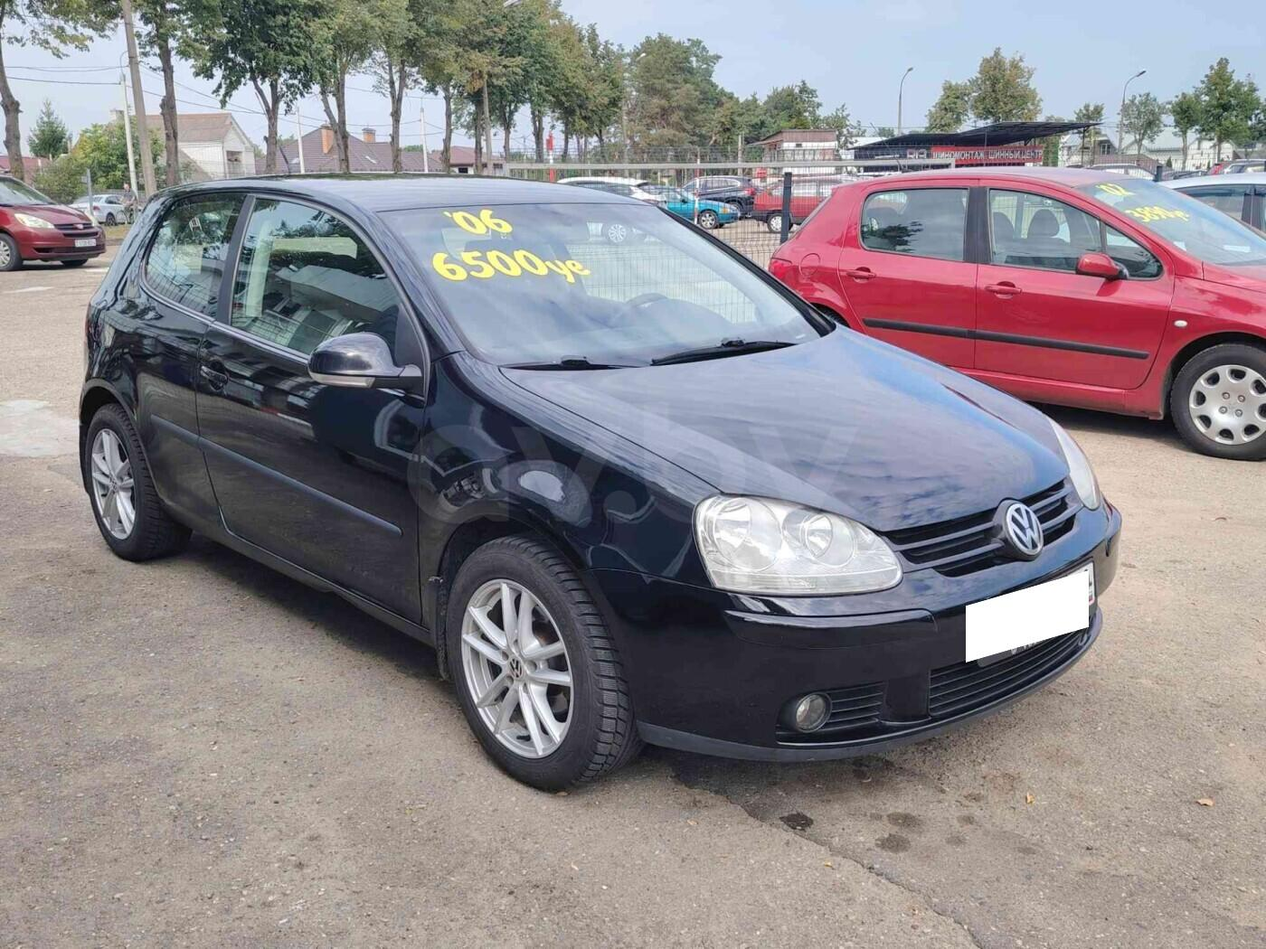Golf_2003-2009: (69, 176, 1134, 804)
